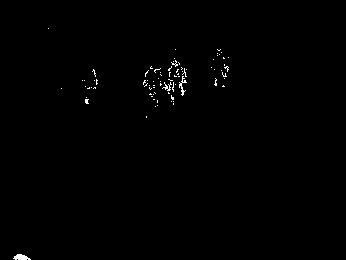person: (143, 62, 165, 108), (166, 57, 187, 105), (211, 46, 230, 89), (81, 66, 98, 104)
